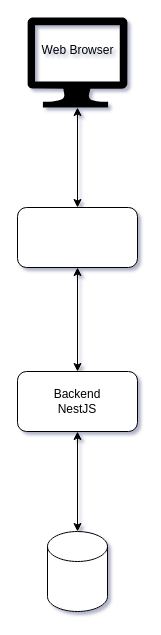
Some shapes in this 161 by 635 pixel diagram are drawn without their labels. Here are the shapes that lost their labels. From the top down, the centre of each, then its label:
At point 77,237: "Frontend React".
At point 77,571: "DB MongoDB".
